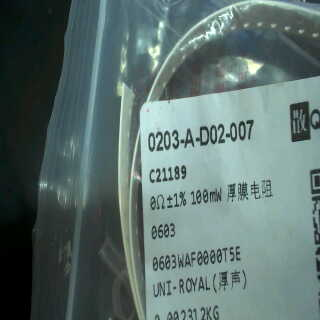0R: (148, 184, 224, 246)
